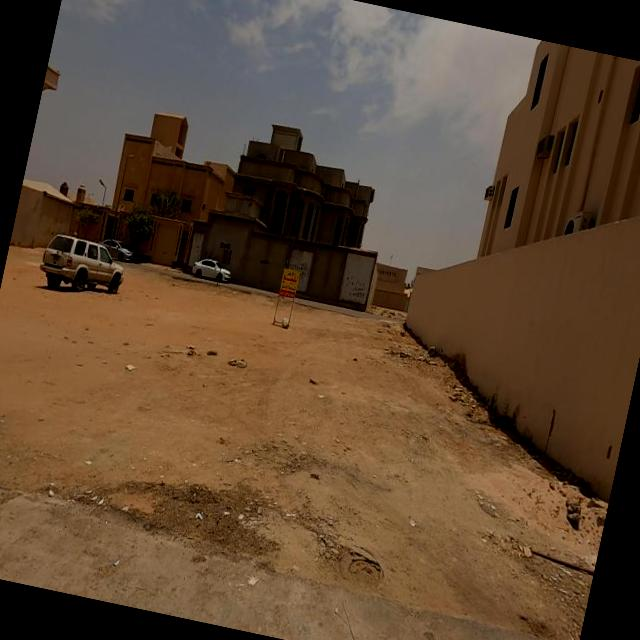debris: (514, 452, 616, 566), (388, 306, 468, 418), (151, 311, 242, 394), (316, 254, 394, 333), (198, 326, 274, 396), (270, 239, 328, 298), (241, 237, 286, 283), (108, 345, 154, 386)
